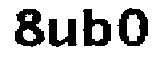0: (116, 5, 151, 52)
8: (12, 2, 45, 53)
b: (79, 6, 112, 52)
u: (47, 15, 79, 54)
